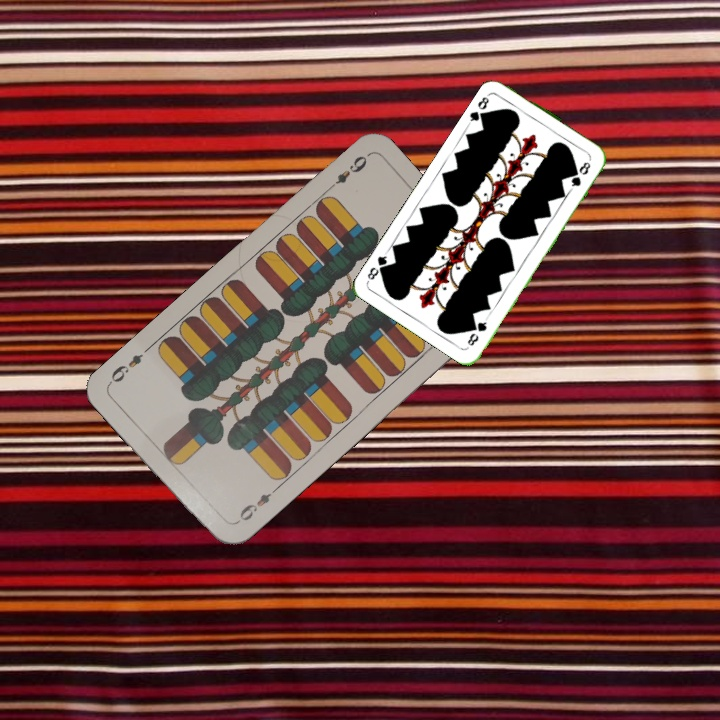E9: (230, 484, 280, 527), (322, 151, 370, 194)
G8: (465, 89, 493, 125), (463, 314, 491, 349)
